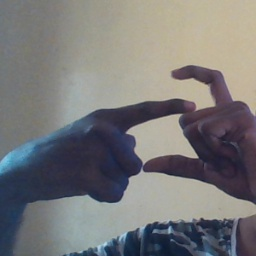E: (108, 58, 238, 182)
